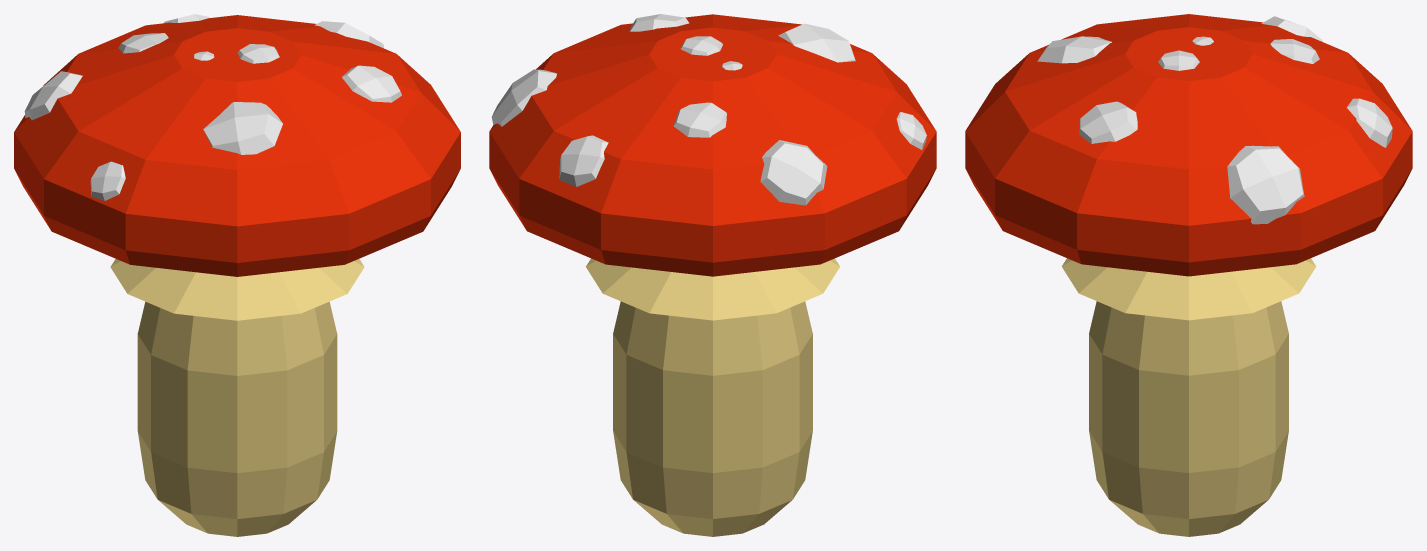
File: Mushroom Low-Poly.fbx
3 renders of one model, left to right at view 1: azimuth 30°, elevation 25°; view 2: azimuth 150°, elevation 25°; view 3: azimuth 270°, elevation 25°, orthographic.
Visible parts, largest first — view 1: Top, Base, Point, Point.003, Point.004, Point.008, Point.005, Point.002, Point.006; view 2: Top, Base, Point.004, Point.001, Point, Point.006, Point.005, Point.003, Point.008, Point.002; view 3: Top, Base, Point.006, Point.003, Point, Point.001, Point.005, Point.002.
Boxes of the visible parts, <box> form: Top: <box>14,15,460,276</box>; Base: <box>110,259,364,536</box>; Point: <box>203,102,282,154</box>; Point.003: <box>342,65,401,102</box>; Point.004: <box>24,71,82,120</box>; Point.008: <box>90,161,125,200</box>; Point.005: <box>118,33,168,53</box>; Point.002: <box>237,44,279,63</box>; Point.006: <box>315,21,384,48</box>; Top: <box>489,14,936,276</box>; Base: <box>586,258,839,536</box>; Point.004: <box>760,140,827,205</box>; Point.001: <box>559,135,608,186</box>; Point: <box>778,23,855,62</box>; Point.006: <box>491,69,556,126</box>; Point.005: <box>673,102,726,137</box>; Point.003: <box>629,14,688,31</box>; Point.008: <box>896,112,926,149</box>; Point.002: <box>680,36,722,55</box>; Top: <box>965,14,1412,276</box>; Base: <box>1061,258,1316,536</box>; Point.006: <box>1227,145,1304,224</box>; Point.003: <box>1078,101,1137,143</box>; Point: <box>1037,36,1111,63</box>; Point.001: <box>1347,98,1392,147</box>; Point.005: <box>1270,39,1319,63</box>; Point.002: <box>1158,50,1199,70</box>.
Size of the model in its own units: 448 by 513 by 448.
